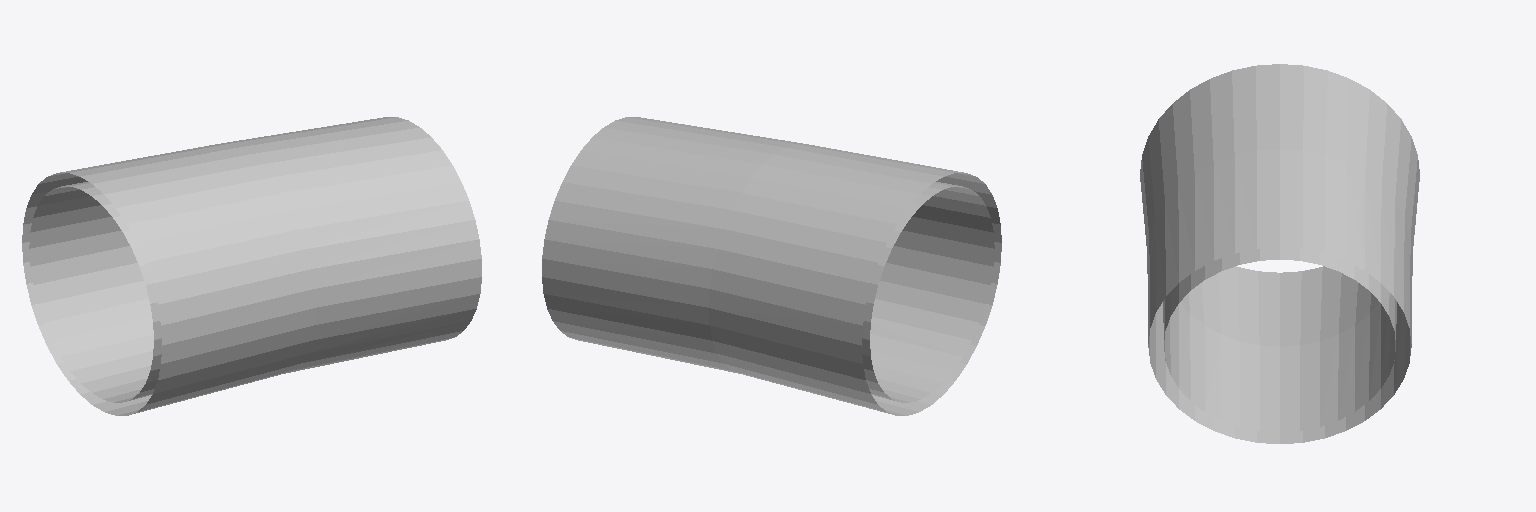
The model's file is small_2222_faucet2.obj.
3 renders of one model, left to right at view 1: azimuth 30°, elevation 25°; view 2: azimuth 150°, elevation 25°; view 3: azimuth 270°, elevation 25°, orthographic.
Visible parts, largest first — view 1: Cylinder003; view 2: Cylinder003; view 3: Cylinder003.
Part boxes in pixels (left/top/right/bottom): Cylinder003: left=22, top=117, right=481, bottom=415; Cylinder003: left=542, top=117, right=1001, bottom=415; Cylinder003: left=1140, top=64, right=1419, bottom=443.
Size of the model in its own units: 2.57 by 1.68 by 1.9.